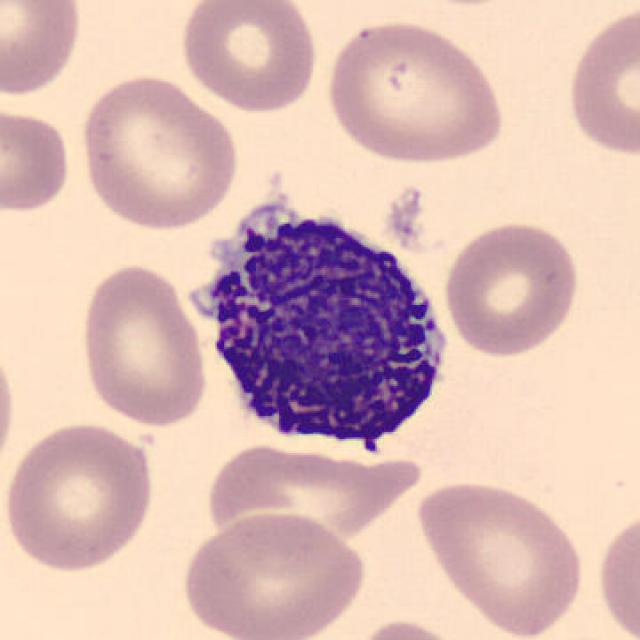Basophil: (185, 183, 464, 469)
RBC: (411, 476, 590, 638), (318, 16, 508, 166), (75, 70, 242, 232), (176, 506, 372, 640), (199, 439, 423, 550), (0, 418, 158, 573), (75, 259, 212, 432), (441, 215, 581, 362), (176, 0, 322, 115), (562, 3, 638, 160), (0, 0, 85, 100), (0, 104, 75, 217), (592, 500, 640, 640), (341, 615, 475, 640), (0, 331, 21, 486)
